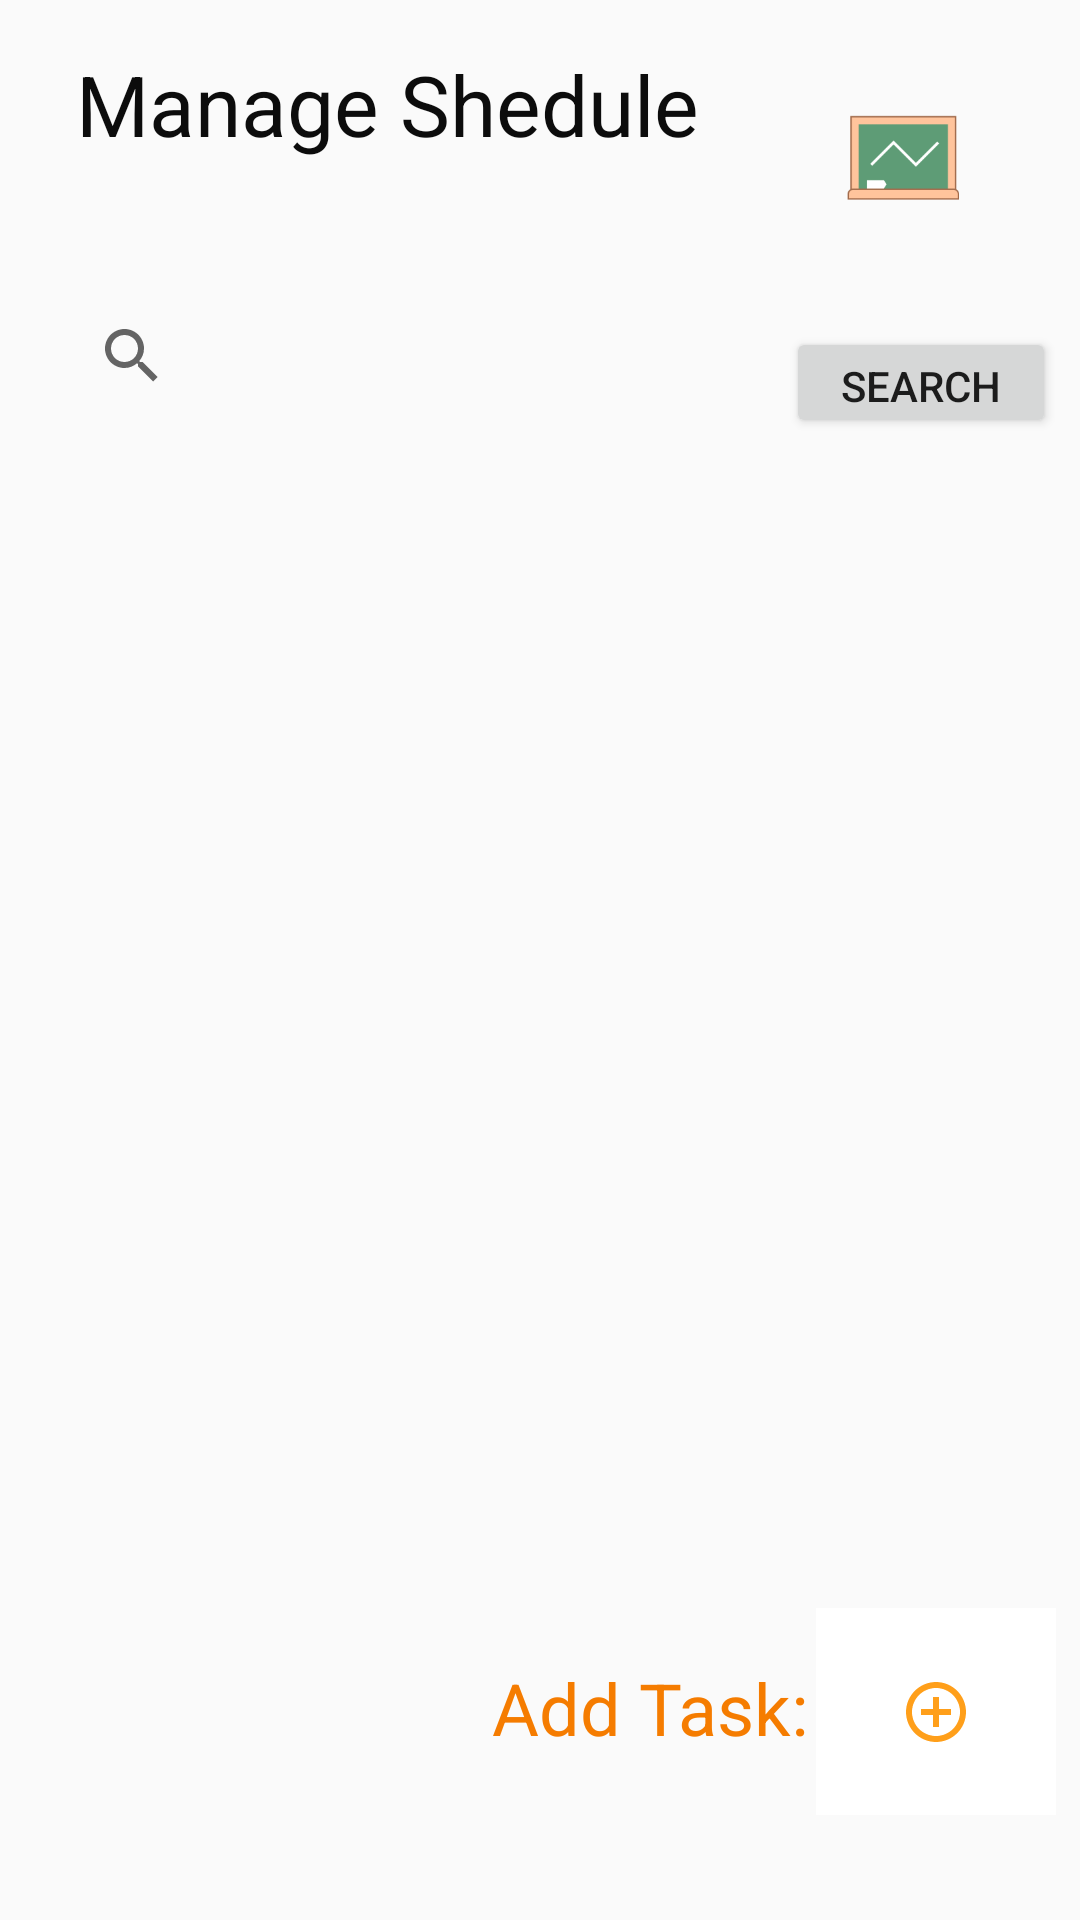

Icons on this 1080×1920 Android screen, each with the point to tap as (x,y):
control point: (936,1712)
